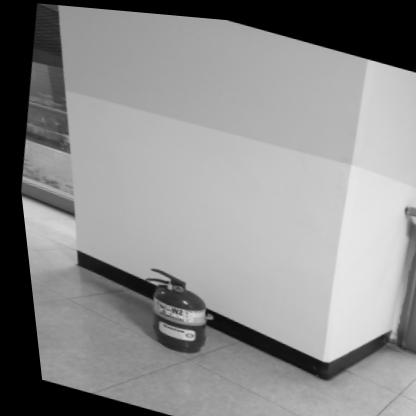FE: (122, 261, 210, 356)
